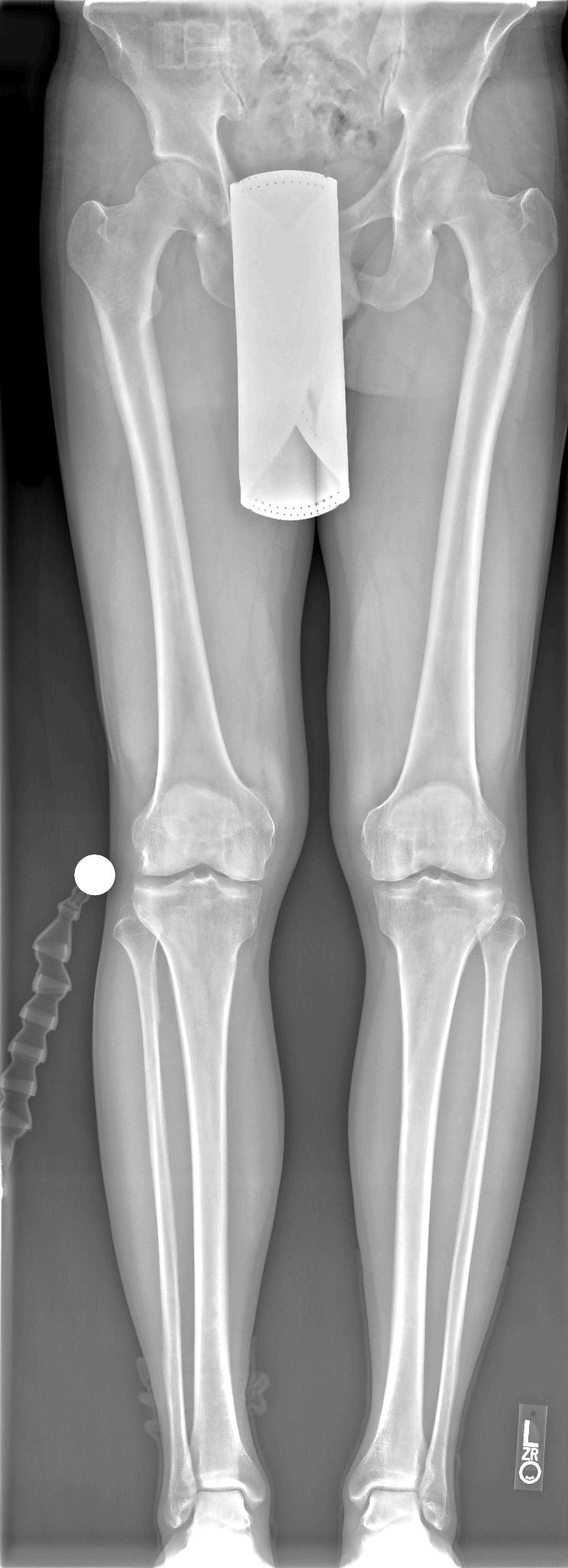Leg Fibula: (421, 906, 525, 1527), (114, 916, 196, 1529)
Leg Tibia: (348, 875, 502, 1504), (133, 873, 266, 1506)
femur: (68, 162, 274, 881), (364, 155, 557, 882)
